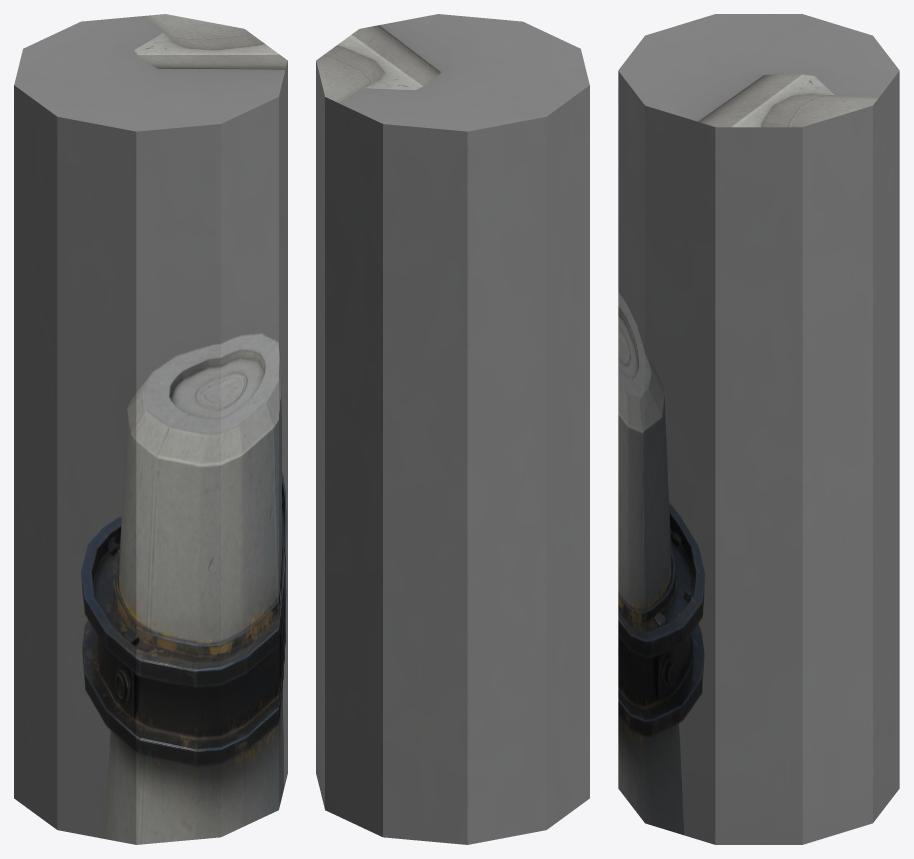
The model's file is bollard.glb.
3 renders of one model, left to right at view 1: azimuth 30°, elevation 25°; view 2: azimuth 150°, elevation 25°; view 3: azimuth 270°, elevation 25°, orthographic.
Visible parts, largest first — view 1: Cylinder; view 2: Cylinder; view 3: Cylinder.
Part boxes in pixels (x1,y1,x2,y2): Cylinder: (14,14,287,844); Cylinder: (316,14,589,844); Cylinder: (618,14,899,844).
Bounding box in the file's own units: 0.3043 × 0.9 × 0.32.
1 material, 1 textured.
